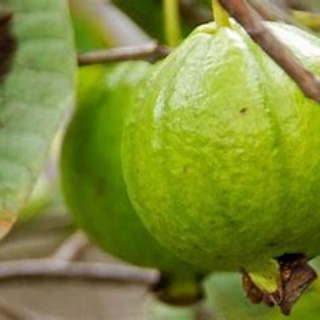oi: (118, 18, 320, 313)
